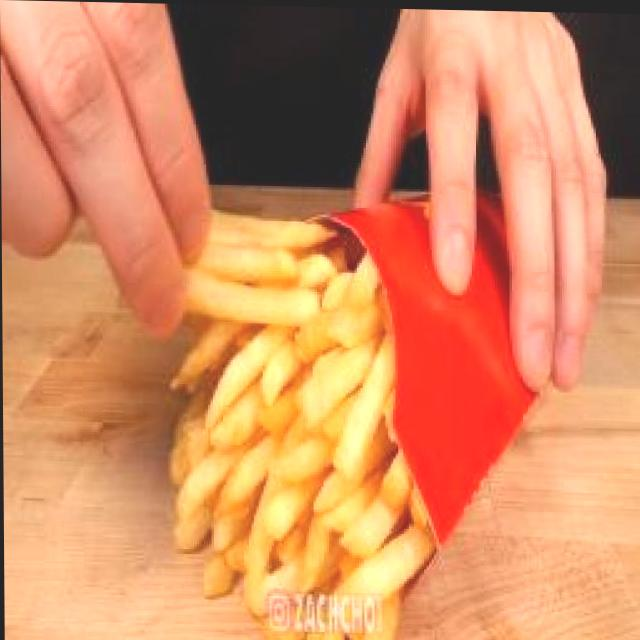french fries: (151, 150, 464, 640)
